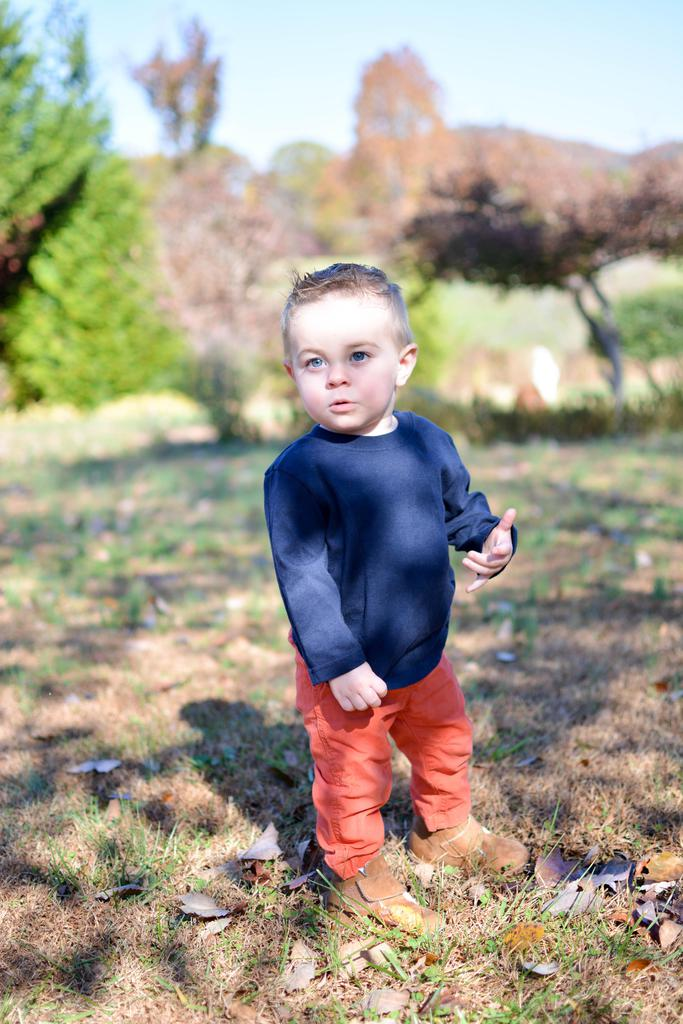child: (229, 255, 549, 910)
